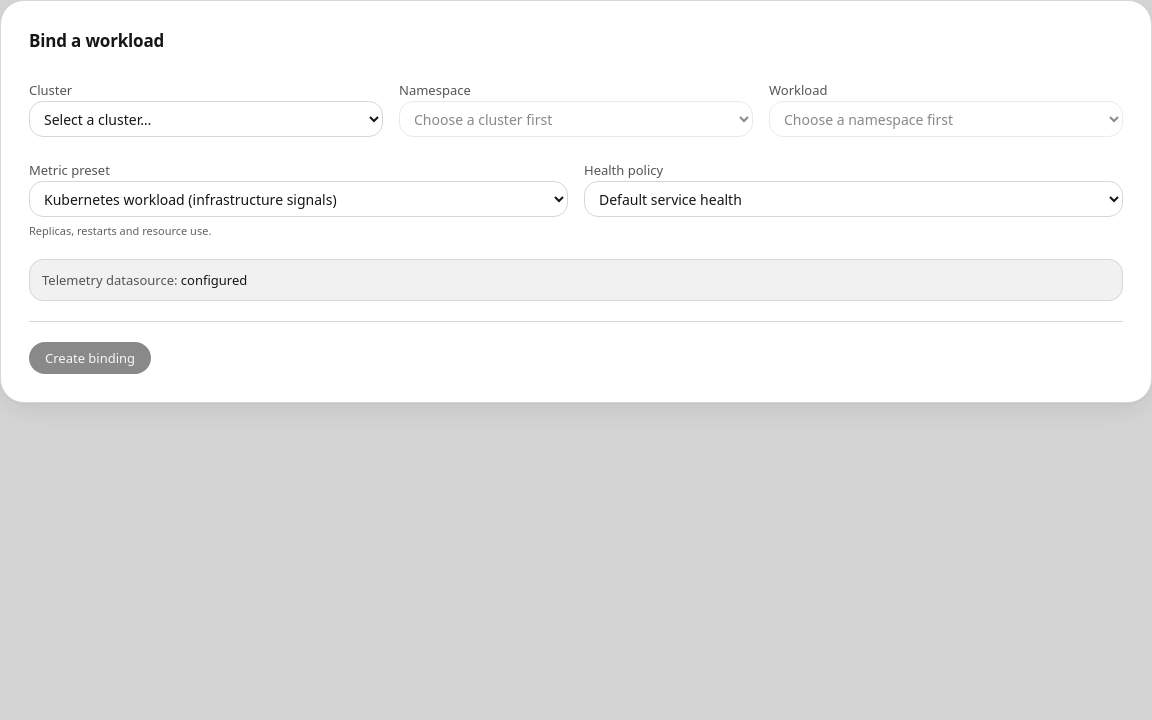
Test: binding form › says a concurrent edit was refused instead of silently overwriting it
The image size is (1152, 720).
Check: the form named "workload binding" is shown, box [29,77,1123,374]
Select "Cluster A" in the dropdown labelled "Cluster". click: (206, 119)
box: [29,101,383,137]
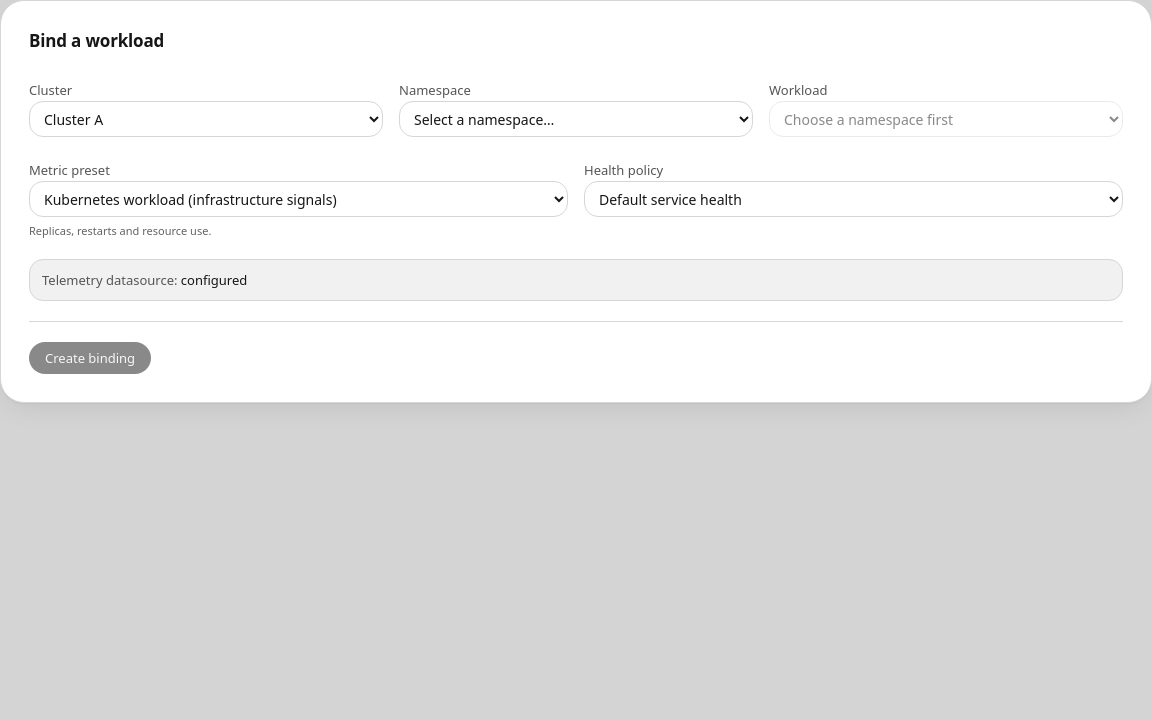
Check: the dropdown labelled "Namespace" is enabled
Select "hermes-dev" in the dropdown labelled "Namespace". click: (576, 119)
box: [399,101,753,137]
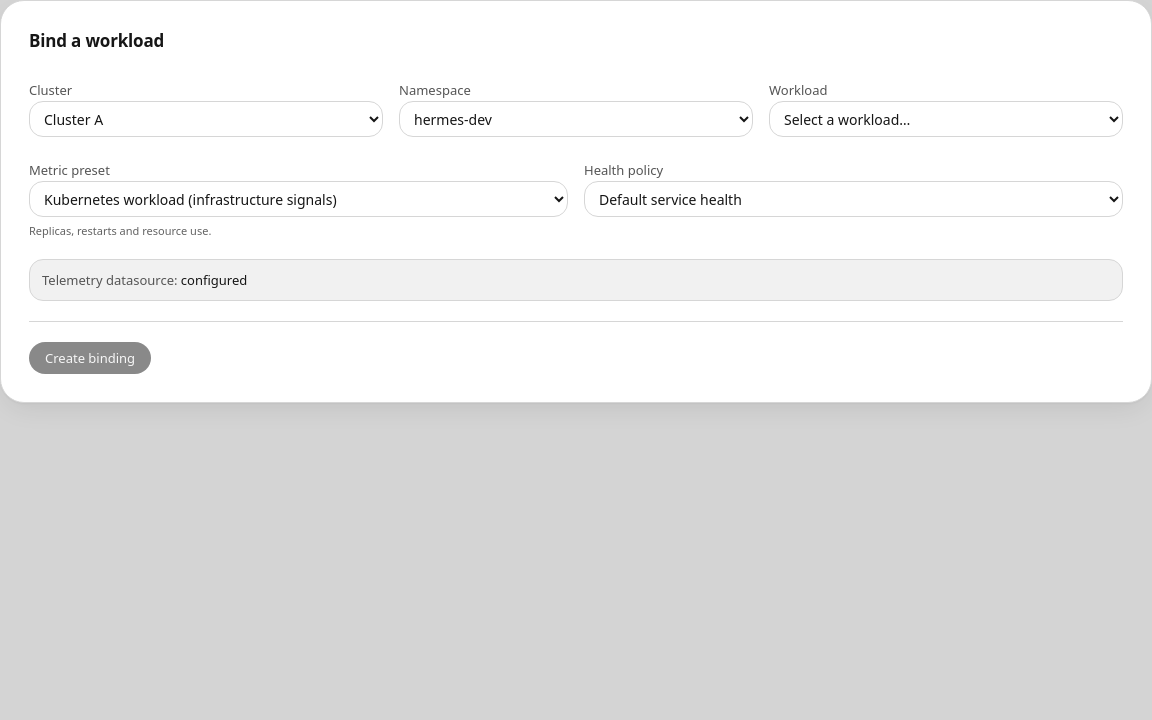
Check: the dropdown labelled "Workload" is enabled
Select "Deployment · hermes-api" in the dropdown labelled "Workload". click: (946, 119)
box: [769,101,1123,137]
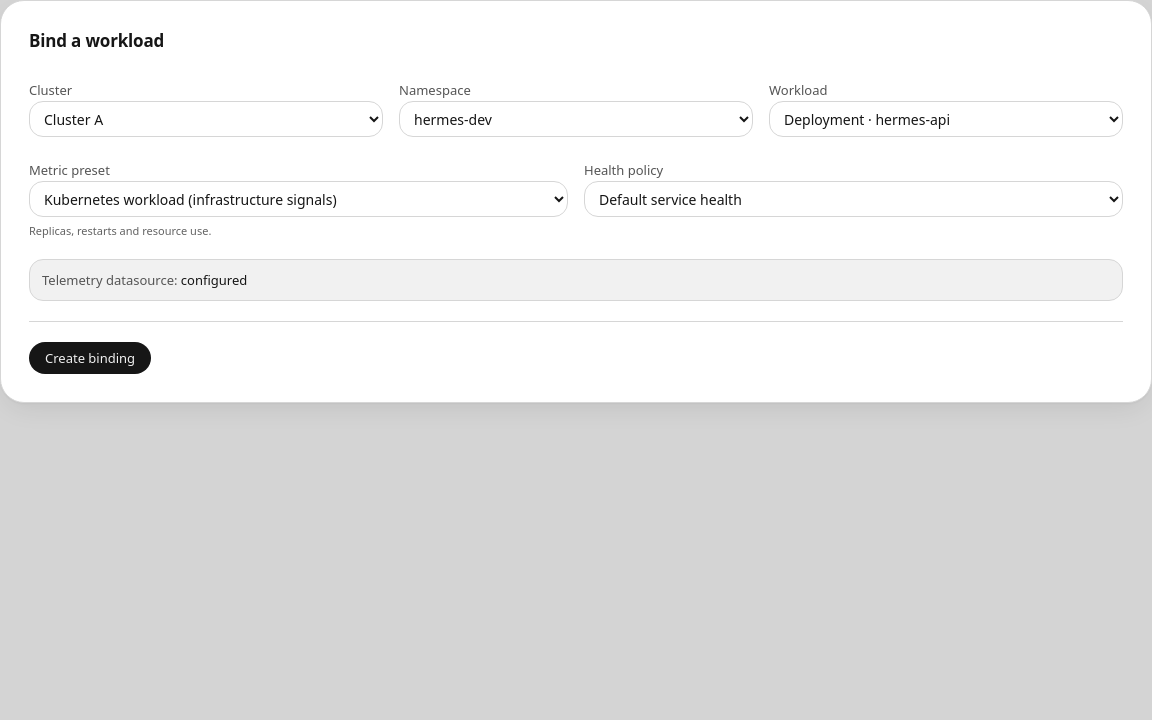
Click the button "Create binding". click: (90, 358)
box: [29,342,151,374]
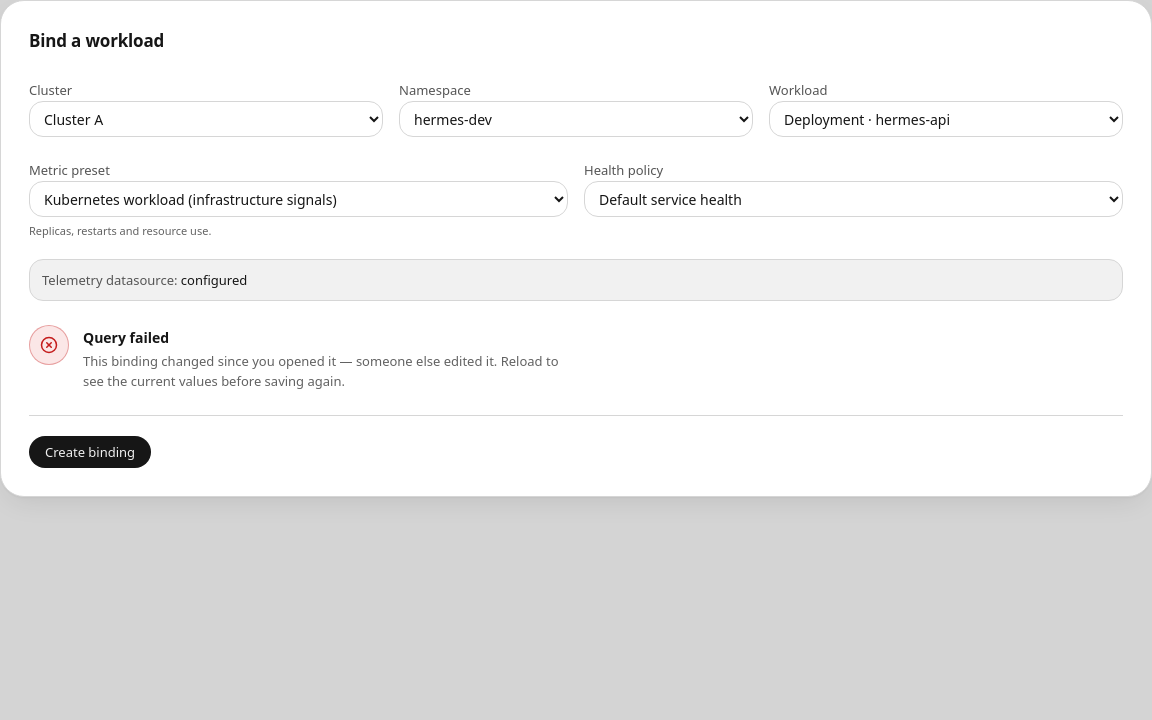
Check: the message with test id "version-conflict" shows "someone else edited it", box [83,352,559,390]
